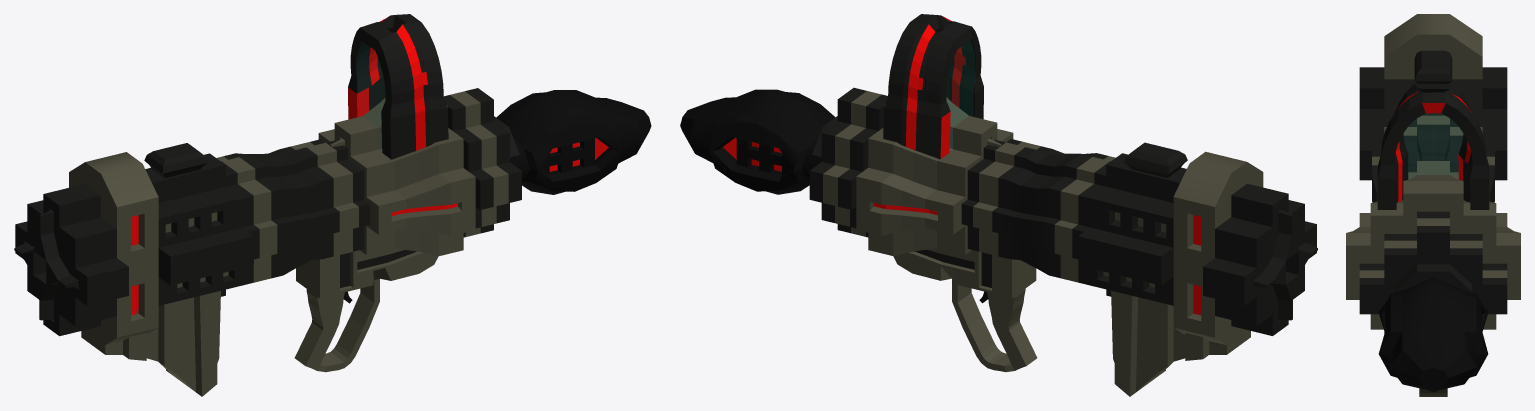
Rendered from K11-Rocket Launcher.FBX.
The picture shows the model from 3 angles, left to right: view 1: azimuth 30°, elevation 25°; view 2: azimuth 150°, elevation 25°; view 3: azimuth 270°, elevation 25°; orthographic projection. The views are drawn at different scales.
Visible parts, largest first — view 1: Box002, Box006, Box004, Cylinder001, Scope, Box003, Box008, Box007, Box005; view 2: Box002, Box006, Box004, Cylinder001, Scope, Box003, Box008, Box007, Box005; view 3: Cylinder001, Box006, Box002, Box007, Scope, Box003, Box004, Box008.
Part boxes in pixels (x1,y1,x2,y2): Box002: [144, 139, 370, 305]; Box006: [318, 98, 475, 256]; Box004: [14, 184, 128, 336]; Cylinder001: [496, 90, 651, 194]; Scope: [348, 14, 448, 159]; Box003: [69, 152, 158, 347]; Box008: [294, 248, 438, 372]; Box007: [444, 88, 521, 237]; Box005: [81, 291, 220, 396]; Box002: [961, 139, 1187, 305]; Box006: [856, 97, 1013, 256]; Box004: [1203, 183, 1317, 335]; Cylinder001: [680, 89, 835, 194]; Scope: [883, 14, 983, 159]; Box003: [1173, 151, 1263, 347]; Box008: [893, 248, 1037, 372]; Box007: [809, 87, 887, 237]; Box005: [1111, 290, 1250, 396]; Cylinder001: [1378, 277, 1488, 392]; Box006: [1346, 161, 1520, 329]; Box002: [1359, 50, 1507, 202]; Box007: [1359, 211, 1507, 333]; Scope: [1377, 83, 1489, 209]; Box003: [1384, 14, 1482, 79]; Box004: [1359, 67, 1507, 108]; Box008: [1419, 388, 1447, 396].
Bounding box in the file's own units: 145 × 75.65 × 35.59.
